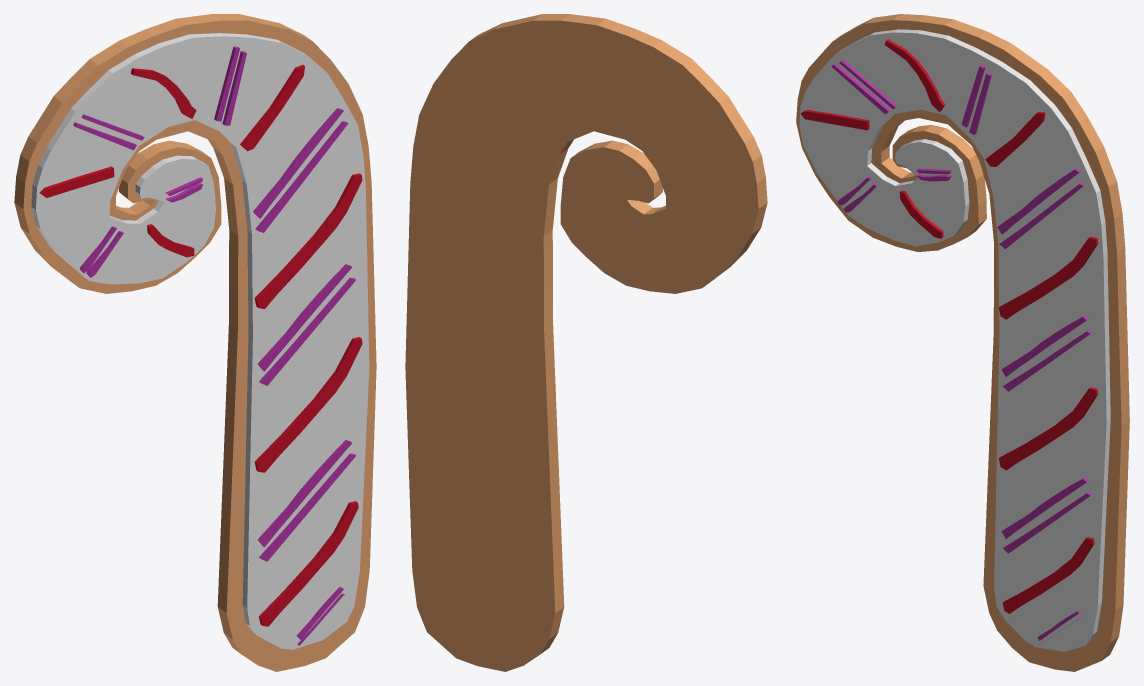
The model's file is Stick.glb.
3 renders of one model, left to right at view 1: azimuth 30°, elevation 25°; view 2: azimuth 150°, elevation 25°; view 3: azimuth 330°, elevation 25°, orthographic. The views are drawn at different scales.
Parts seen in each view (by area): view 1: Stick; view 2: Stick; view 3: Stick.
Boxes of the visible parts, x1,y1,x2,y2 form: Stick: [14, 14, 376, 671]; Stick: [405, 14, 767, 671]; Stick: [796, 14, 1129, 671].
Size of the model in its own units: 0.2267 by 0.4111 by 0.0175.
